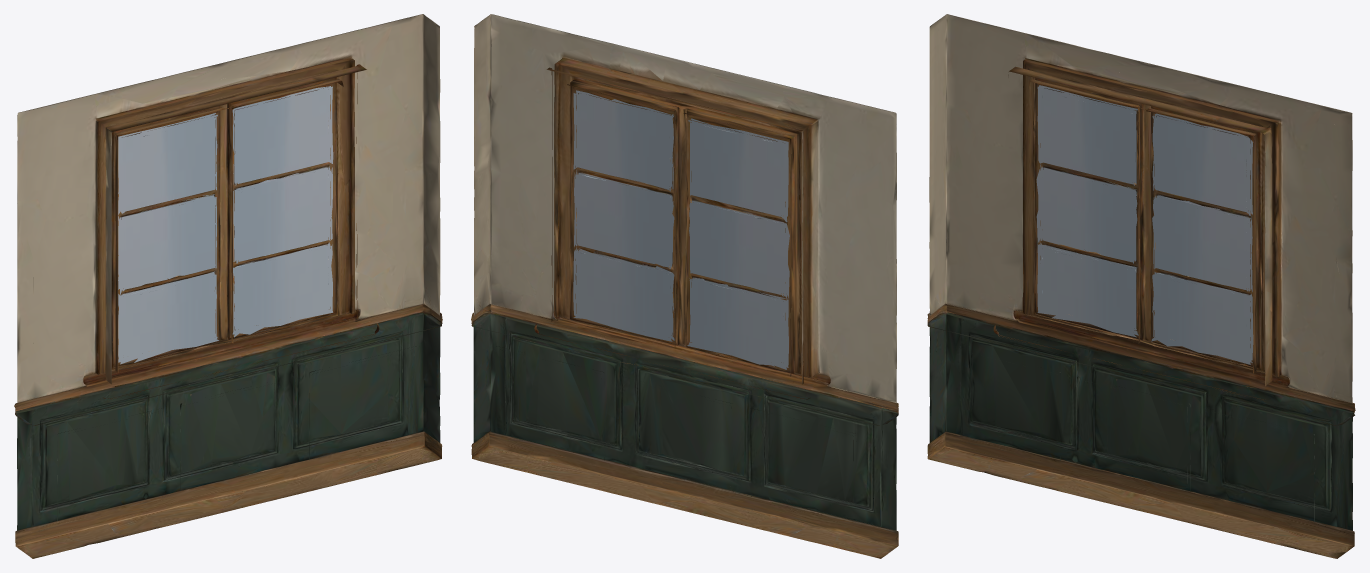
The model's file is cafe-window-wall.glb.
3 renders of one model, left to right at view 1: azimuth 30°, elevation 25°; view 2: azimuth 150°, elevation 25°; view 3: azimuth 330°, elevation 25°, orthographic.
Parts seen in each view (by area): view 1: tripo_node_e6cdee99-58fa-40e6-a2ea-c1f41ddc9b41; view 2: tripo_node_e6cdee99-58fa-40e6-a2ea-c1f41ddc9b41; view 3: tripo_node_e6cdee99-58fa-40e6-a2ea-c1f41ddc9b41.
Boxes of the visible parts, x1=… form: tripo_node_e6cdee99-58fa-40e6-a2ea-c1f41ddc9b41: x1=14, y1=14, x2=442, y2=558; tripo_node_e6cdee99-58fa-40e6-a2ea-c1f41ddc9b41: x1=471, y1=14, x2=898, y2=558; tripo_node_e6cdee99-58fa-40e6-a2ea-c1f41ddc9b41: x1=927, y1=14, x2=1355, y2=558.
Bounding box in the file's own units: 4 × 4 × 0.42.
2 materials, 2 textured.
